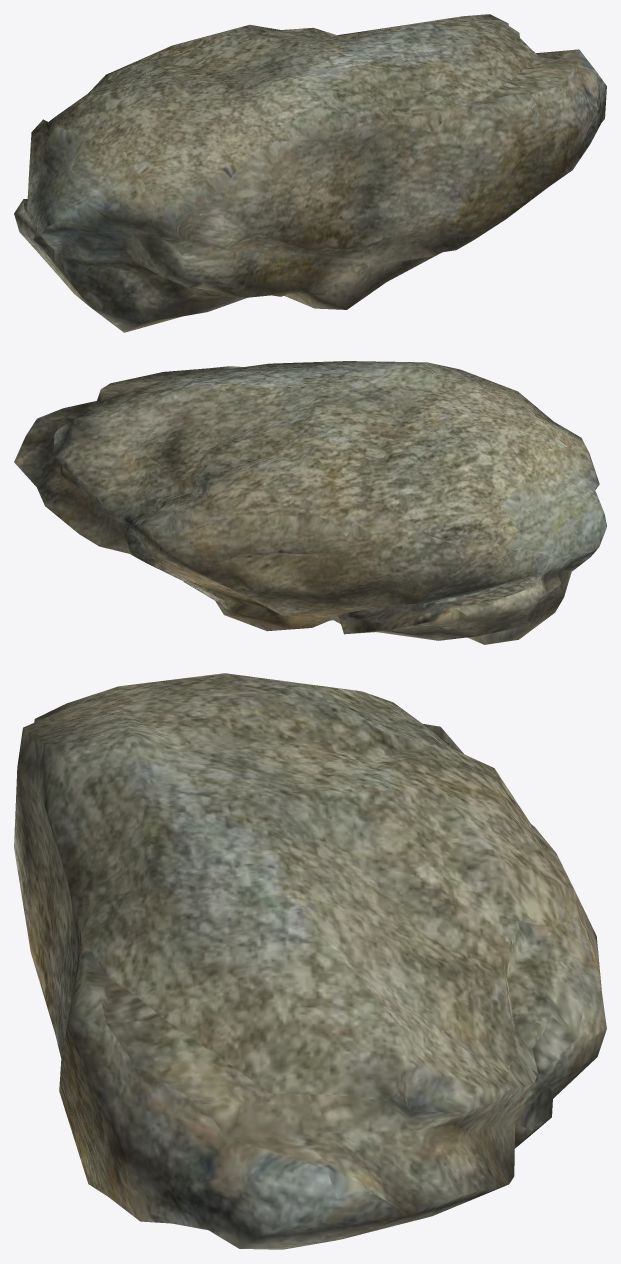
File: namaqualand_boulder_05_lod1.glb
3 views of the same model, one above another, from view 1: azimuth 30°, elevation 25°; view 2: azimuth 150°, elevation 25°; view 3: azimuth 270°, elevation 25° (orthographic). The views are drawn at different scales.
Visible parts, largest first — view 1: namaqualand_boulder_05; view 2: namaqualand_boulder_05; view 3: namaqualand_boulder_05.
Part boxes in pixels (box(x1,y1,x2,y2)): namaqualand_boulder_05: box(14, 14, 606, 332); namaqualand_boulder_05: box(14, 361, 606, 644); namaqualand_boulder_05: box(14, 673, 606, 1249).
Size of the model in its own units: 1.36 by 0.5324 by 0.7341.
1 material, 1 textured.
